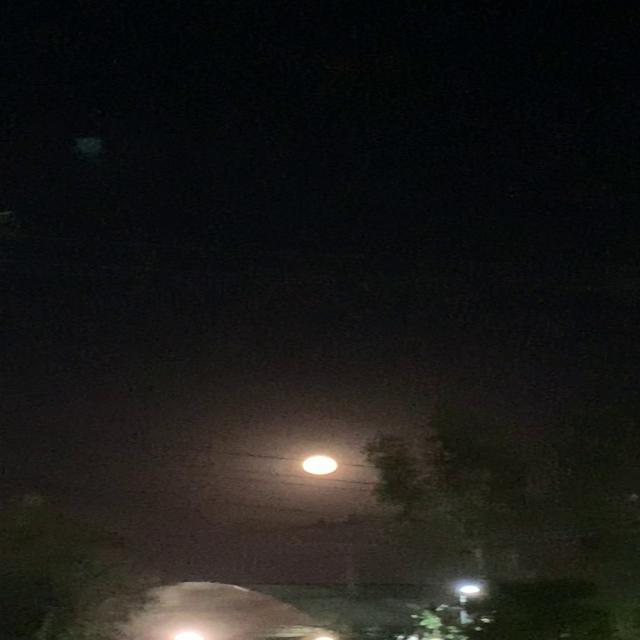moon: (302, 454, 356, 479)
